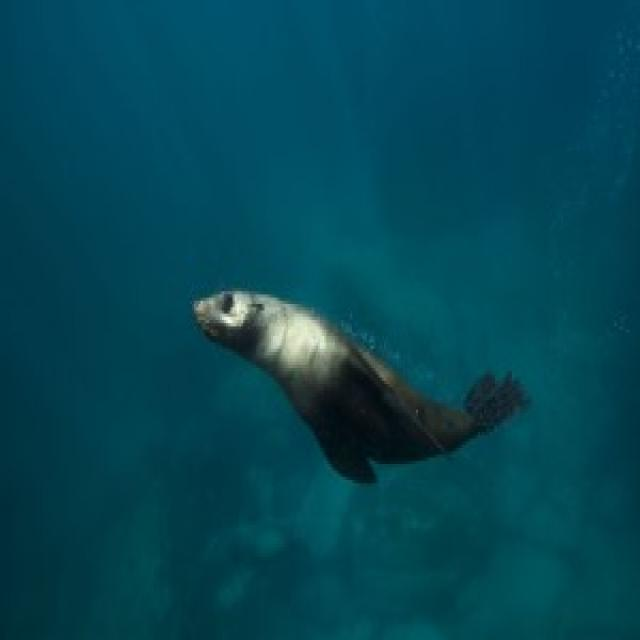Seal: (185, 272, 533, 514)
